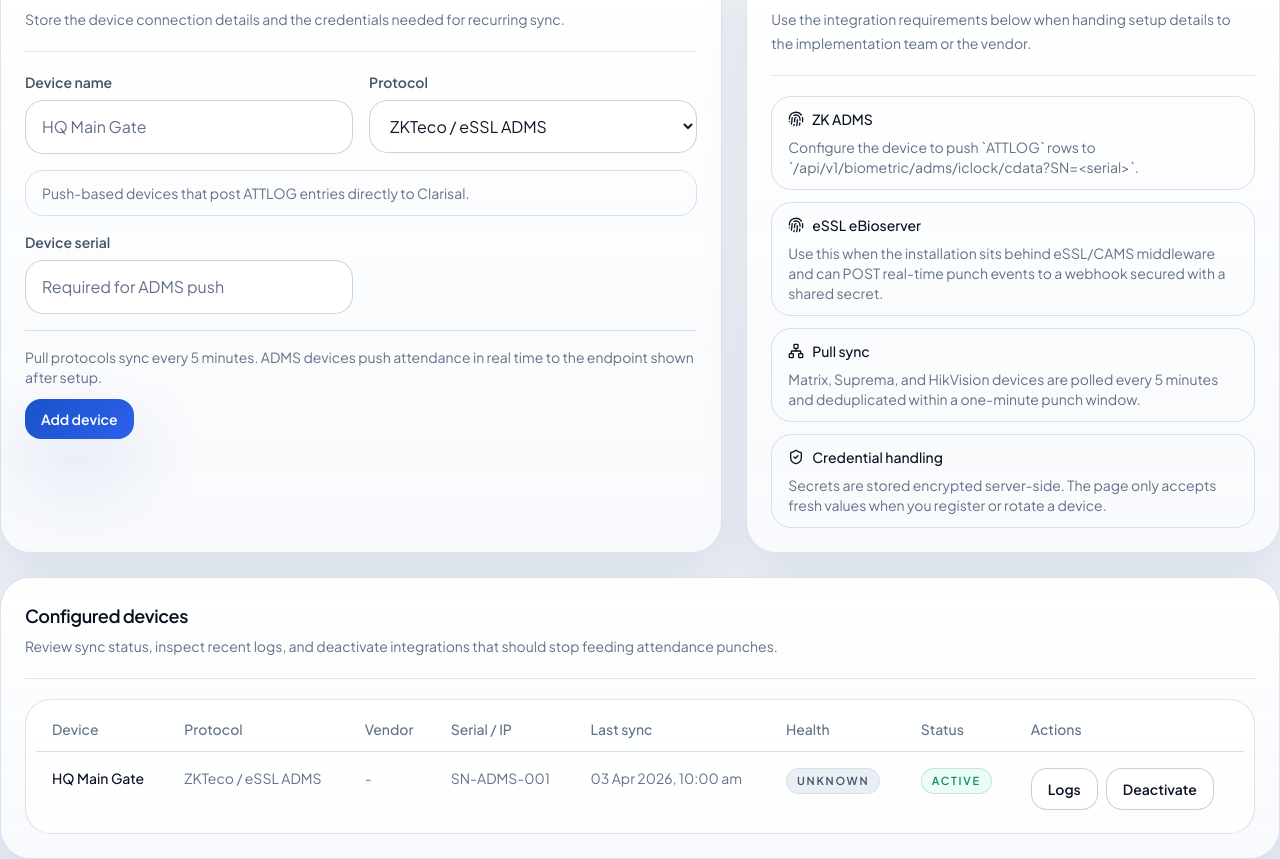
Scenario: BiometricDevicesPage › loads sync logs for the selected device
This screenshot has width=1280, height=859.
(page scrolled)
Check: the text "HQ Main Gate" is shown, box [52,768,152,788]
Click the button "Logs" at (1064, 789), box [1031,768,1098,810]
(page scrolled)
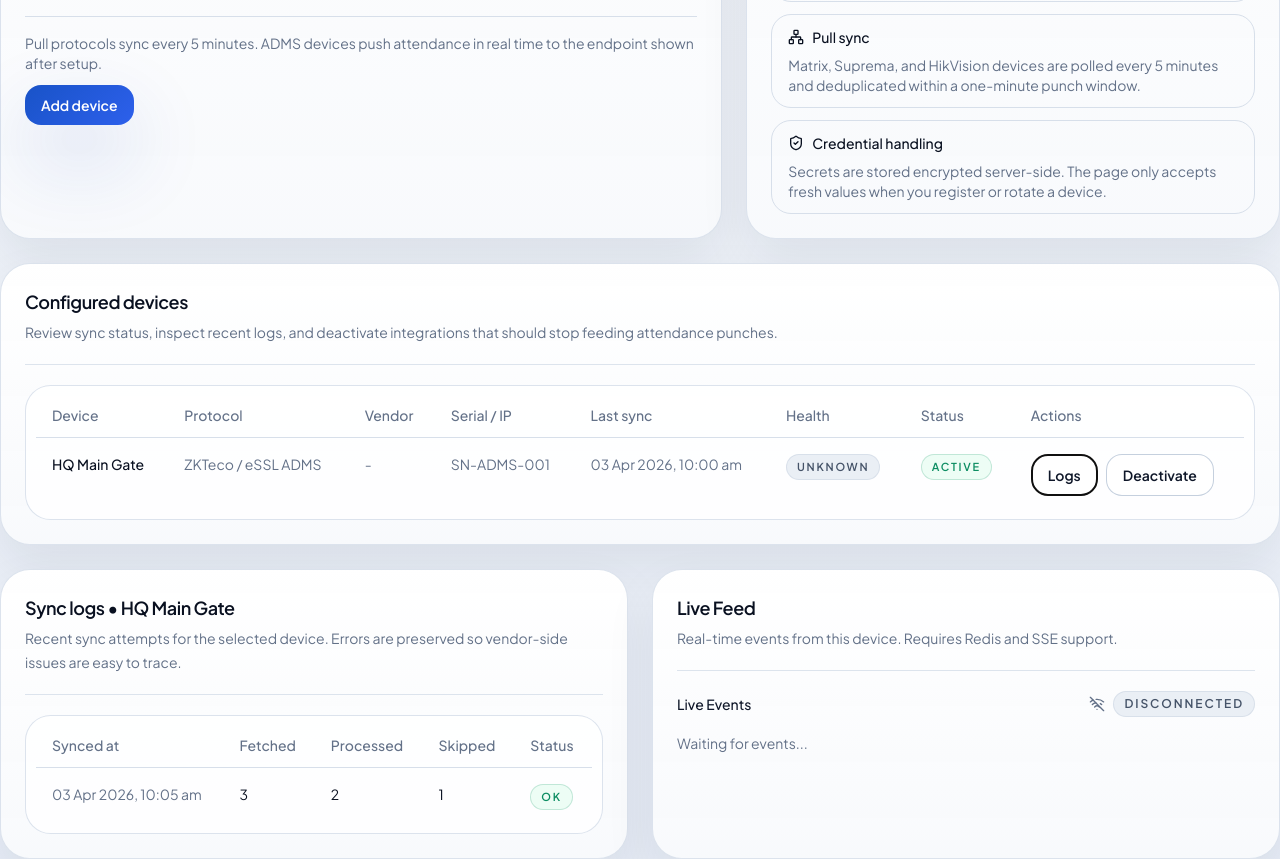
Check: the heading "Sync logs • HQ Main Gate" is shown, box [25,596,235,619]
Check: the text "3" is shown, box [224,768,315,826]
